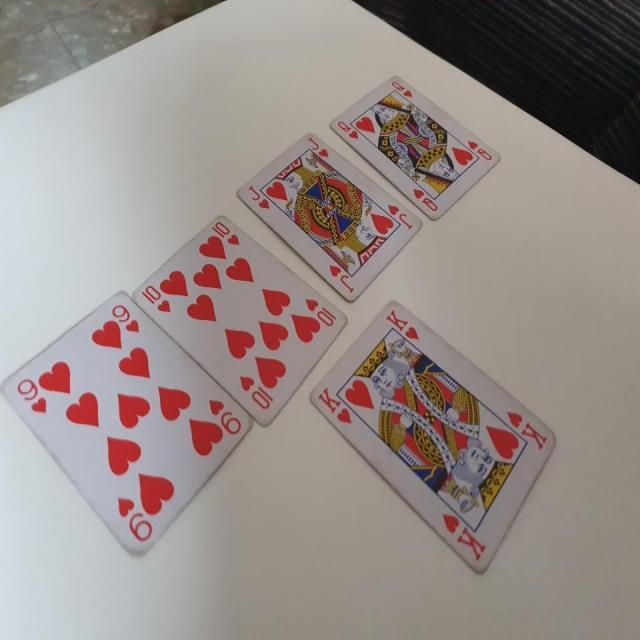10 of hearts: (124, 208, 349, 438)
9 of hearts: (1, 290, 256, 574)
jack of hearts: (233, 130, 424, 306)
king of hearts: (308, 302, 558, 590)
queen of hearts: (331, 65, 503, 226)
